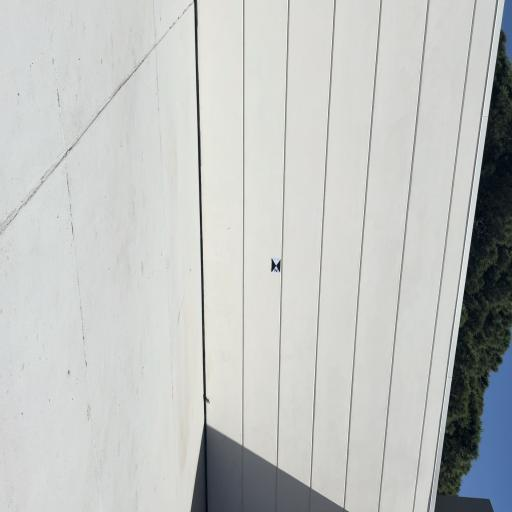target7: (271, 258, 280, 273)
